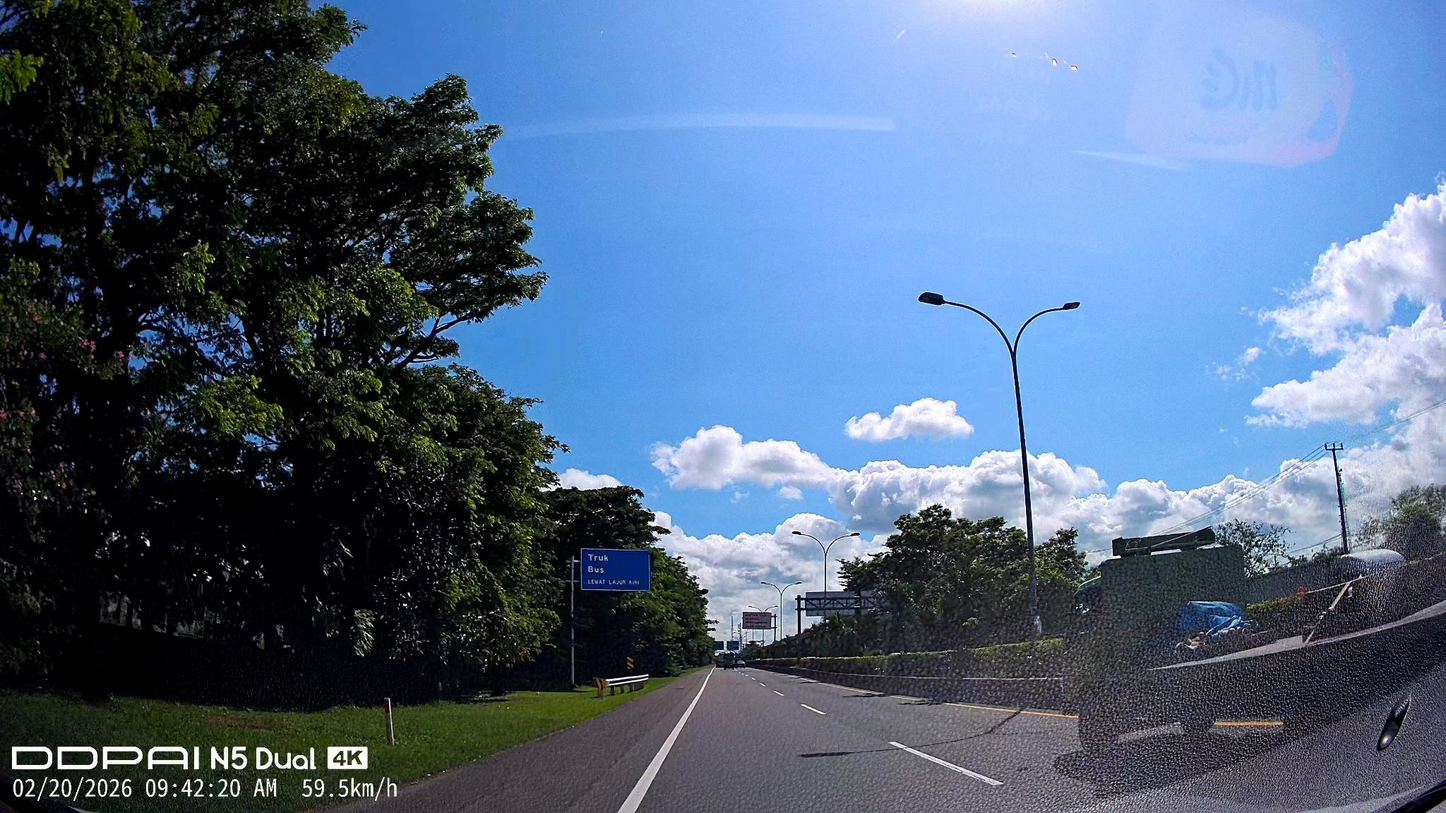rambu_teks: (580, 548, 650, 591)
